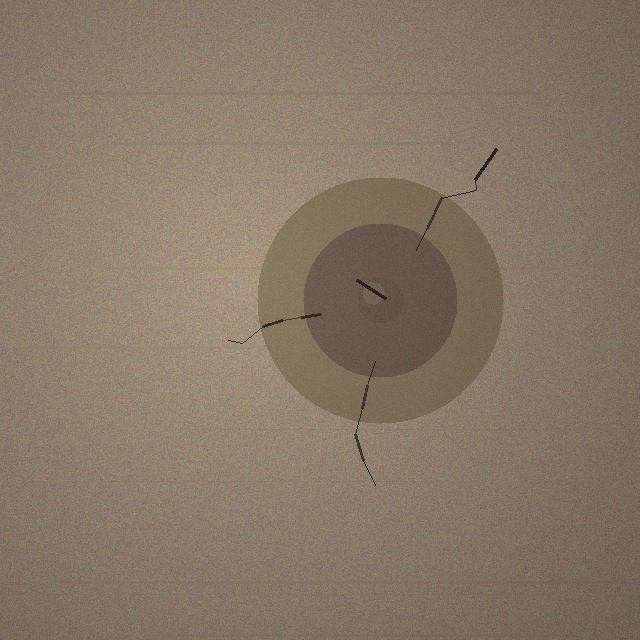crack: (257, 177, 503, 423)
